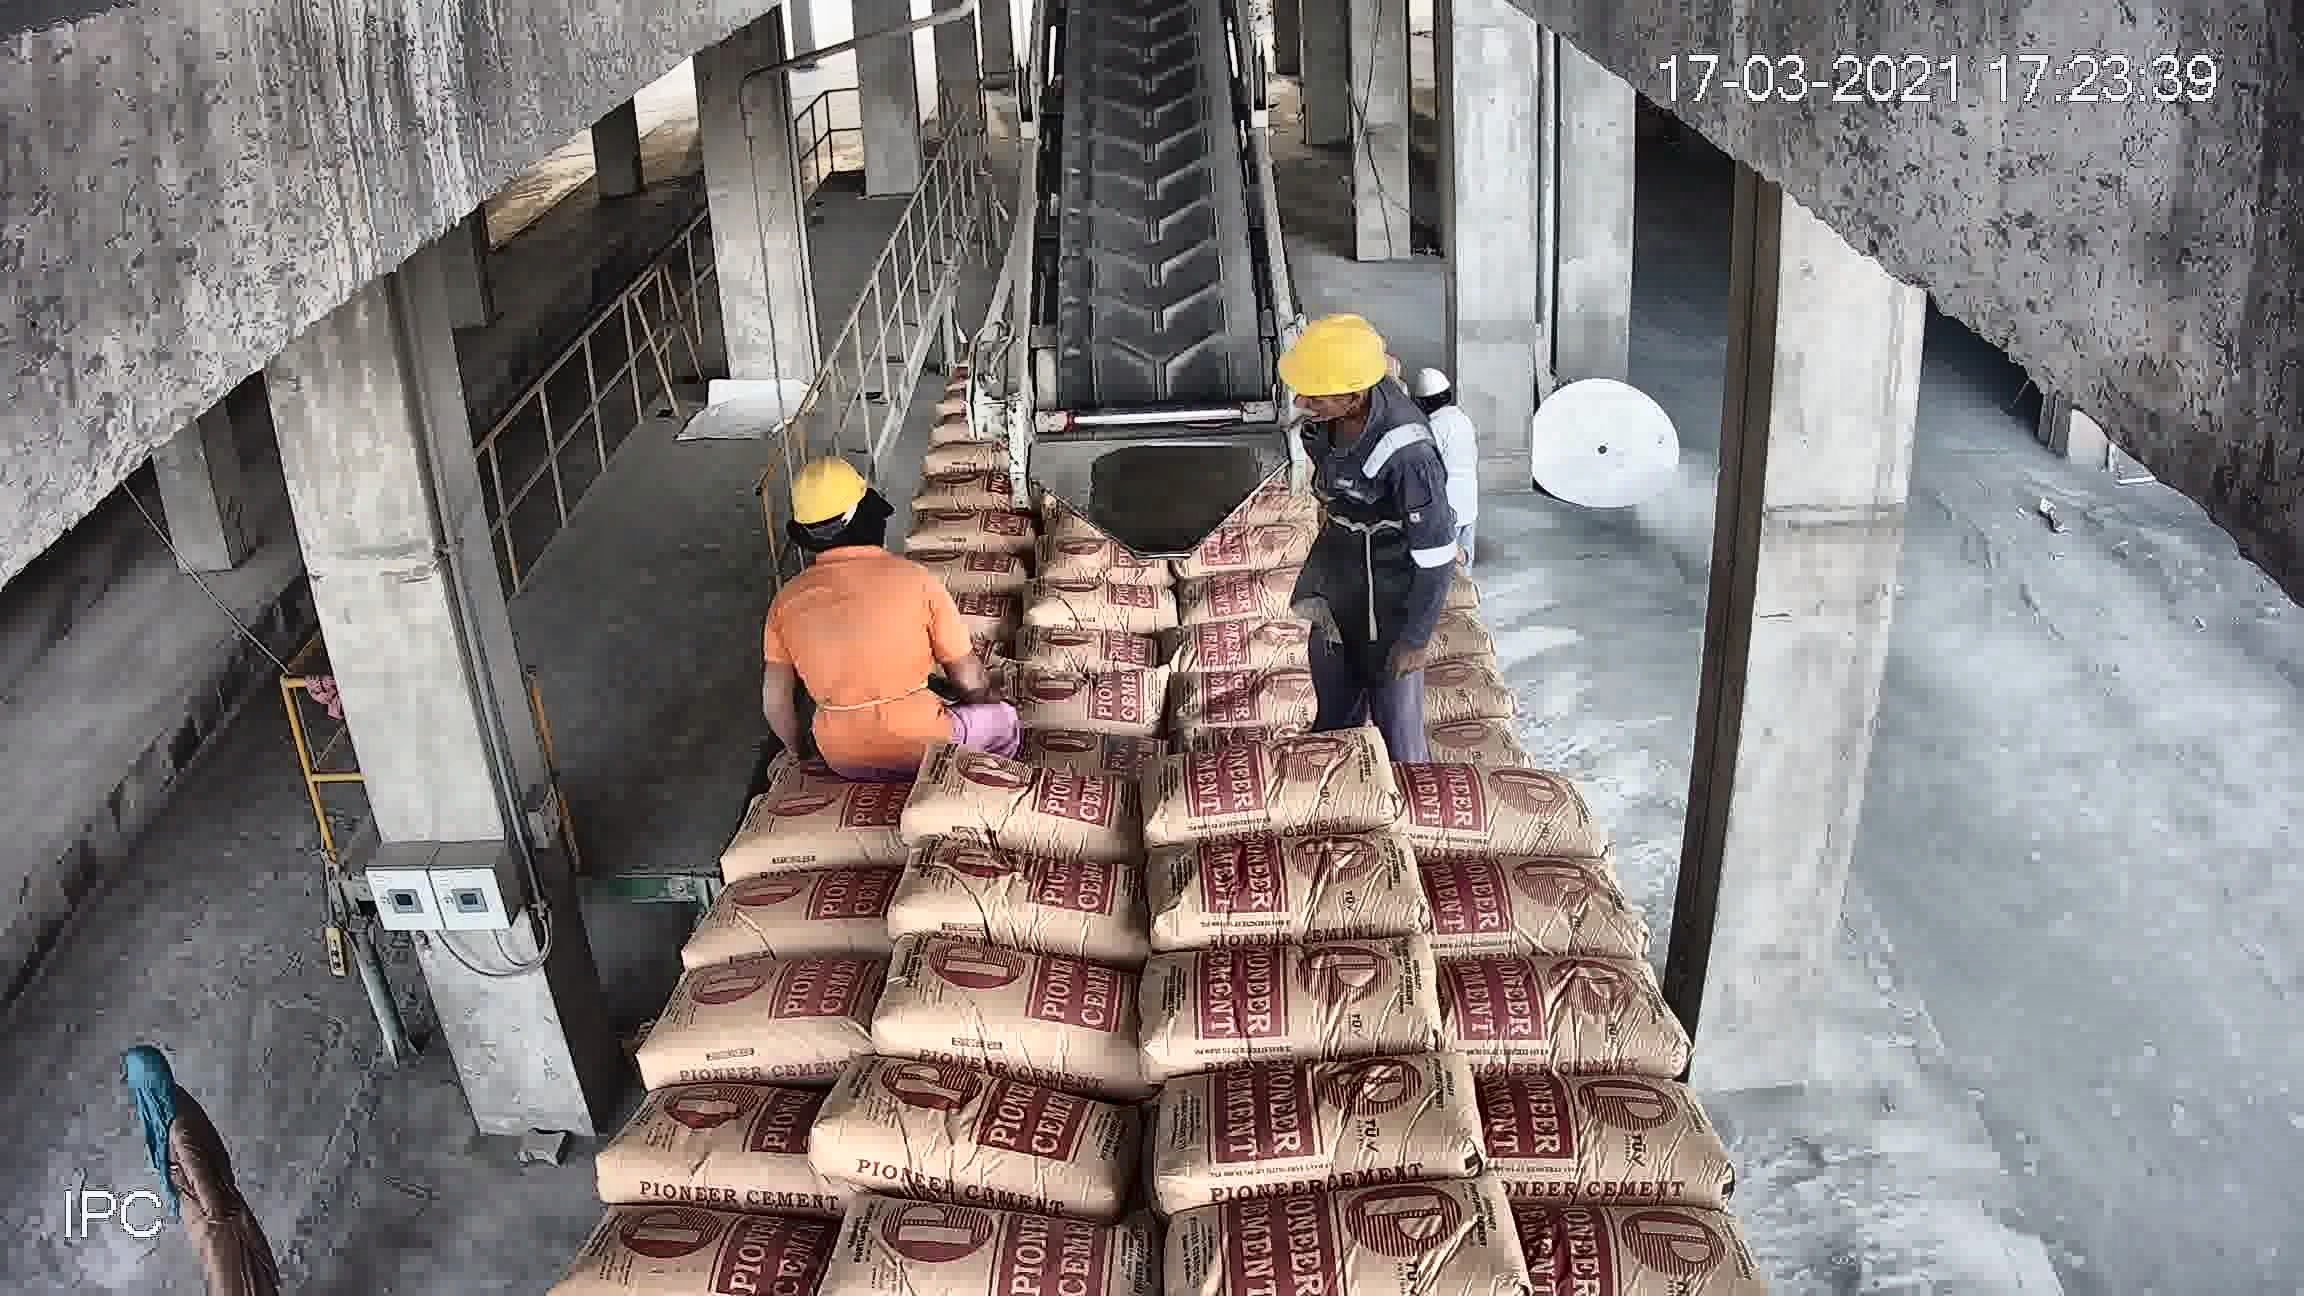bag: (1044, 21, 1252, 366), (980, 373, 1135, 475), (1100, 122, 1217, 214)
bag_h: (1160, 1044, 1499, 1211), (815, 1060, 1147, 1214), (807, 1179, 1169, 1294), (1138, 1190, 1527, 1296), (1133, 953, 1451, 1081), (603, 1067, 853, 1218), (1165, 824, 1434, 949), (869, 953, 1158, 1068), (1476, 1074, 1703, 1218), (1147, 731, 1412, 850), (885, 850, 1152, 959), (660, 940, 867, 1079), (1108, 657, 1400, 755), (1416, 836, 1631, 967), (1502, 1198, 1775, 1296), (1155, 585, 1394, 687), (949, 601, 1184, 703), (1457, 949, 1658, 1067), (535, 1218, 809, 1296), (731, 771, 900, 889), (677, 866, 897, 956), (892, 766, 1143, 843), (930, 676, 1157, 760), (1146, 532, 1353, 616), (1374, 677, 1559, 769), (753, 696, 927, 793), (1400, 755, 1575, 851), (783, 623, 938, 715), (945, 559, 1146, 628), (1369, 617, 1537, 692), (810, 522, 970, 593), (1150, 491, 1320, 546), (1400, 549, 1521, 627), (820, 578, 953, 644), (1321, 441, 1443, 513), (994, 505, 1149, 557), (1366, 514, 1510, 567), (1315, 416, 1449, 467), (1336, 472, 1468, 521), (1321, 385, 1423, 437), (1320, 369, 1407, 423), (1324, 329, 1404, 388)
